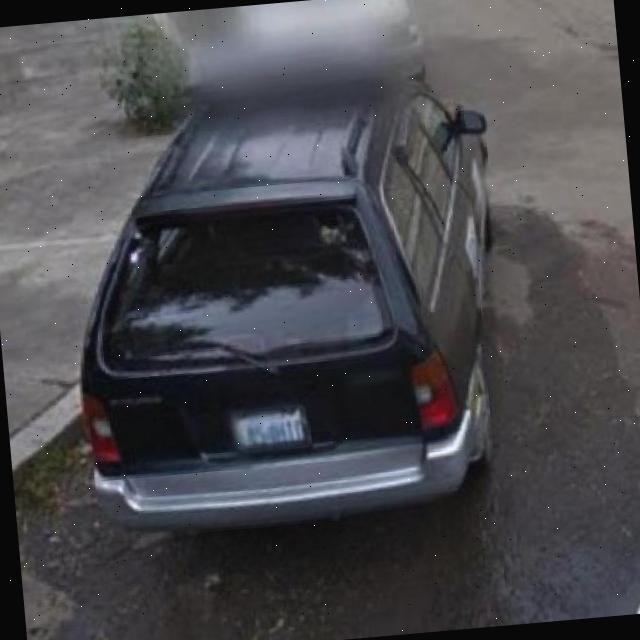car: (80, 44, 486, 530)
